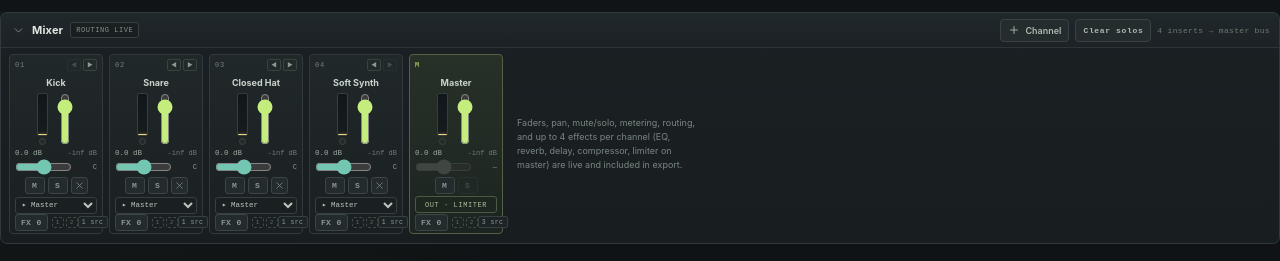
Test: effects rack › opens from the strip FX button and reports the loaded count
The width and height of the screenshot is (1280, 261).
Click the button "FX 0" below "01". click: click(31, 222)
box: left=15, top=214, right=48, bottom=230
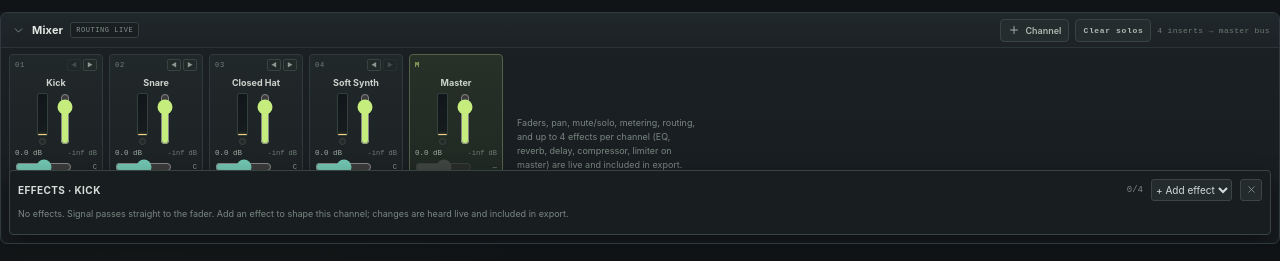
expect the button "FX 0" is expanded: met, box left=15, top=214, right=48, bottom=230
Click the button named "Close effects rack". click: click(1251, 190)
box: left=1240, top=178, right=1262, bottom=200
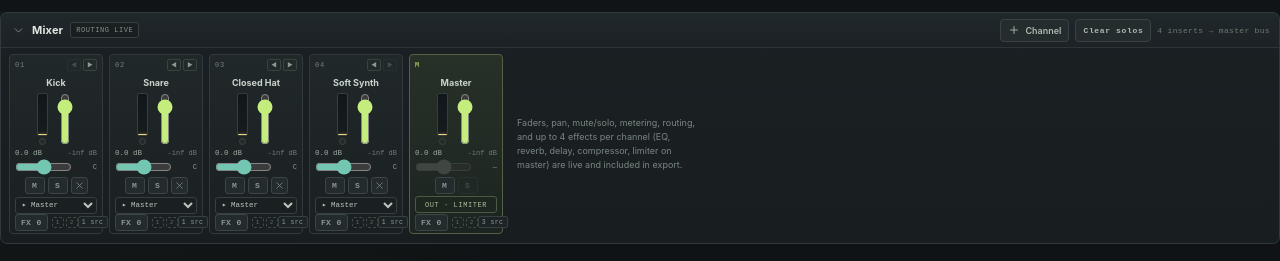
expect the element with id "fx-rack" is gone: met
